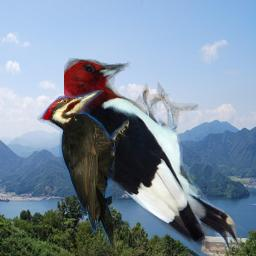Woodpecker: (64, 58, 245, 253), (37, 90, 129, 246)
